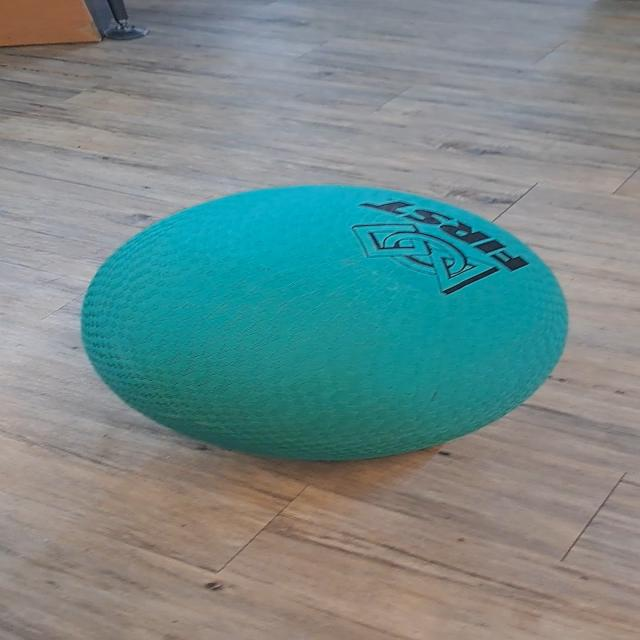ALGAE: (77, 182, 571, 462)
